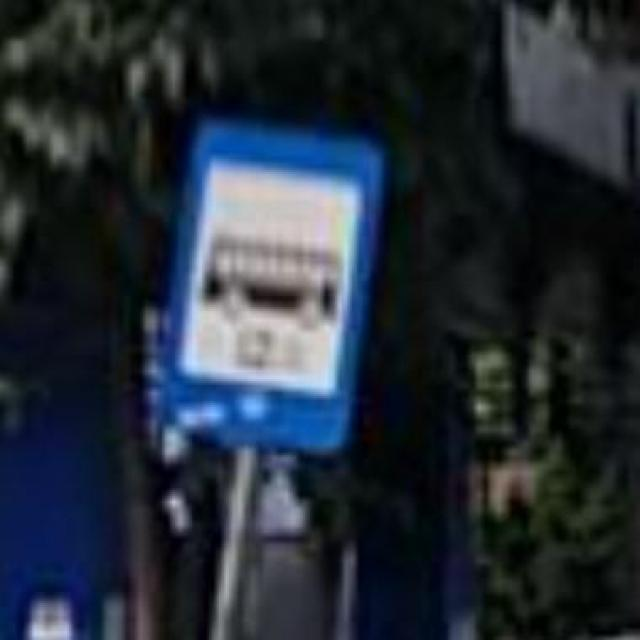traffic sign: (157, 117, 386, 448)
